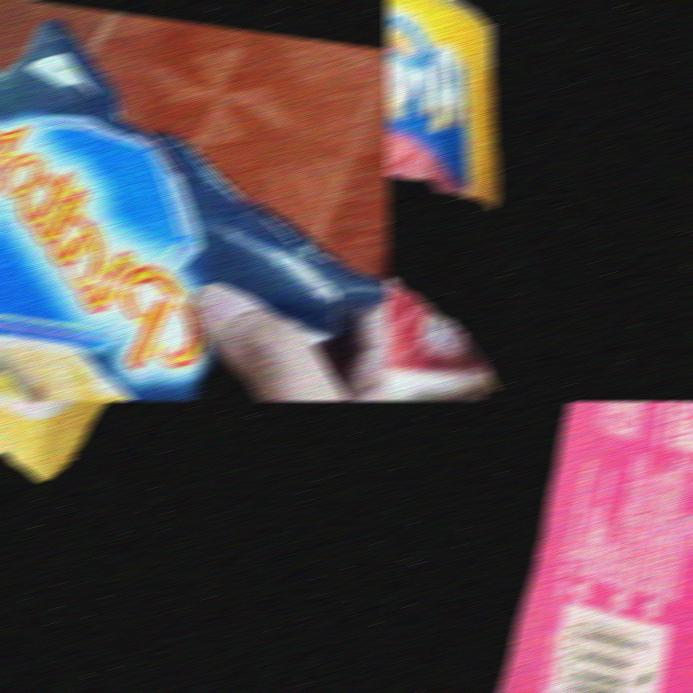argentina corned beef: (386, 0, 501, 209), (386, 277, 499, 400)
palmolive soap: (497, 402, 693, 692)
piattos cheese: (0, 0, 390, 400)
